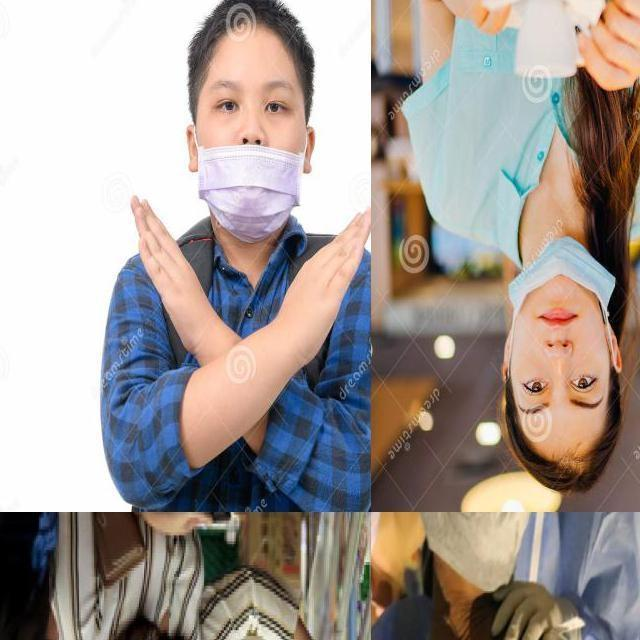apron: (491, 579, 592, 640)
hairnet: (204, 72, 299, 238), (514, 253, 608, 420)
no_apron: (275, 198, 371, 381), (122, 188, 215, 355), (575, 0, 639, 98)
no_gloves: (178, 0, 317, 100), (493, 399, 625, 499)
